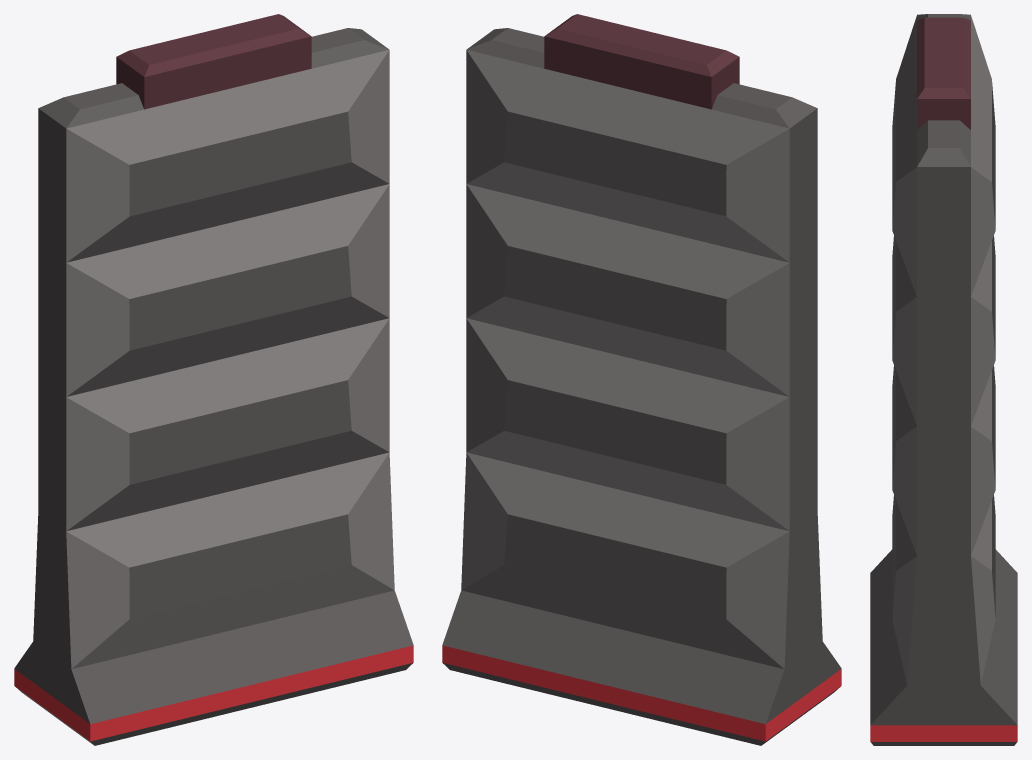
The model's file is scifi-barrier-large.fbx.
The picture shows the model from 3 angles, left to right: view 1: azimuth 30°, elevation 25°; view 2: azimuth 150°, elevation 25°; view 3: azimuth 270°, elevation 25°; orthographic projection. The views are drawn at different scales.
Visible parts, largest first — view 1: scifi-barrier-large; view 2: scifi-barrier-large; view 3: scifi-barrier-large.
Part boxes in pixels (x1,y1,x2,y2): scifi-barrier-large: (14,14,413,745); scifi-barrier-large: (442,14,841,745); scifi-barrier-large: (870,14,1017,745).
Bounding box in the file's own units: 2.01 × 3.82 × 0.8201.
